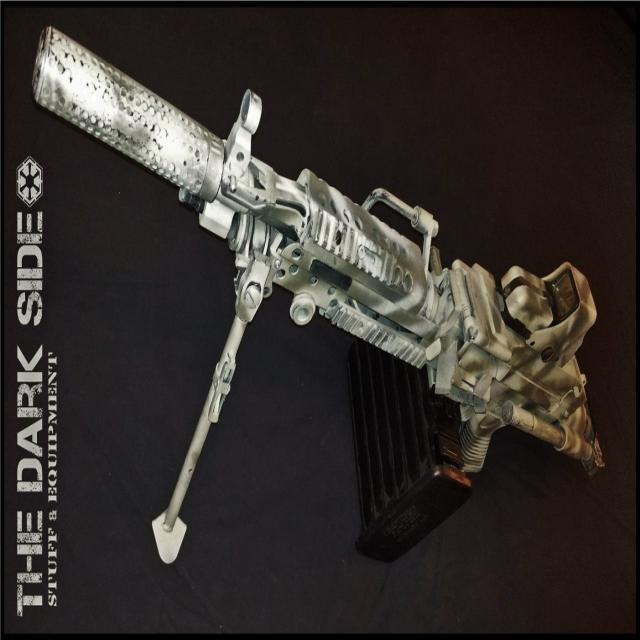firearm: (31, 24, 606, 570)
